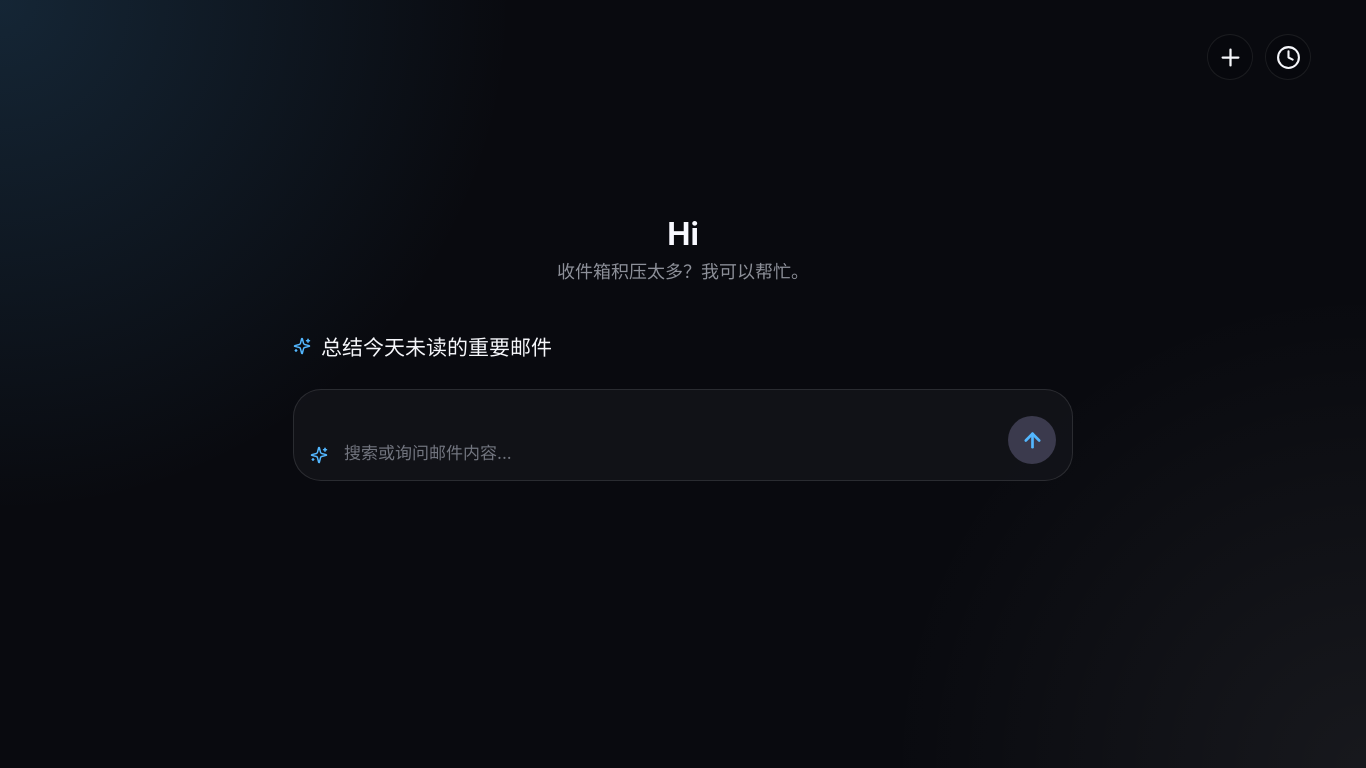
Test case: AiScreen › hides cited email excerpts until the summary is expanded
The image size is (1366, 768).
Type "coursework 邮件" into the field with placeholder "搜索或询问邮件内容..." at {"x": 670, "y": 453}, box [342,442,998,464]
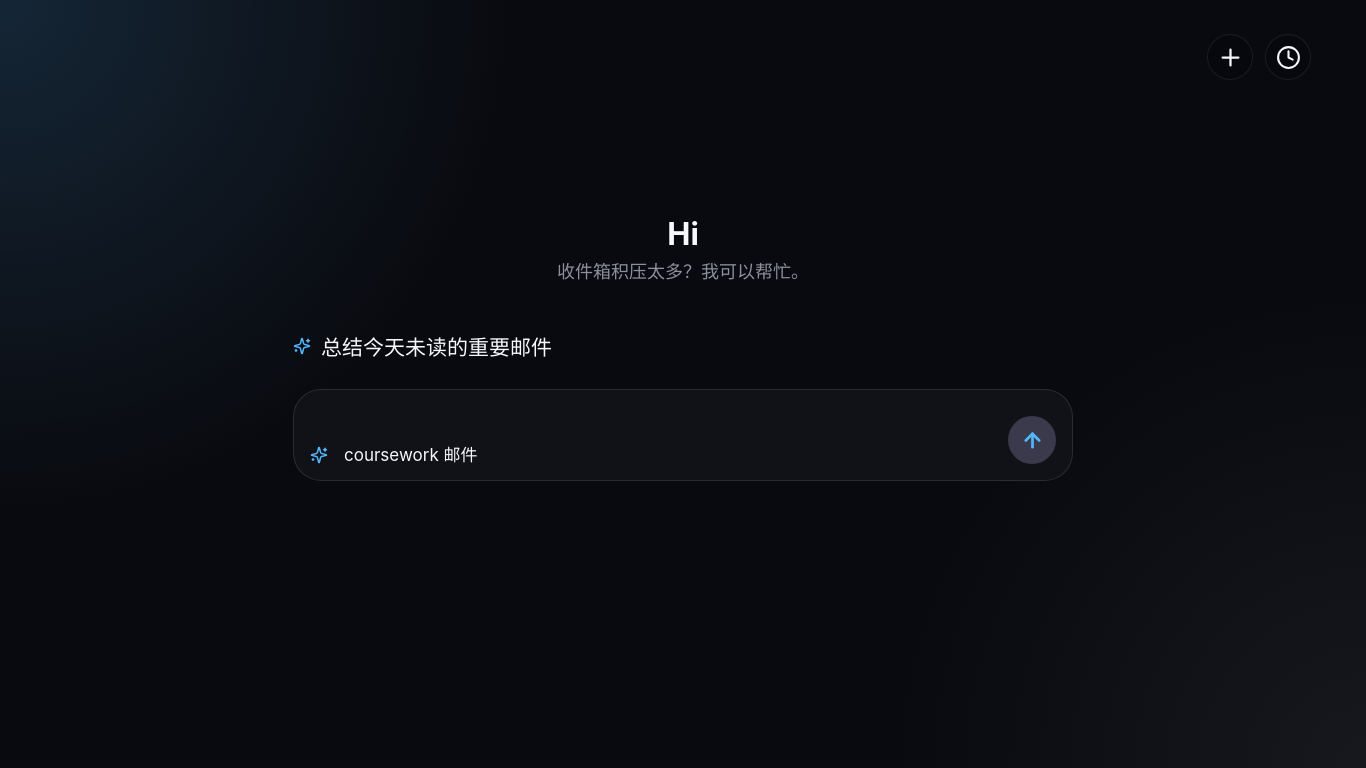
Click the button named "发送" at {"x": 1032, "y": 440}, box [1008,416,1056,464]
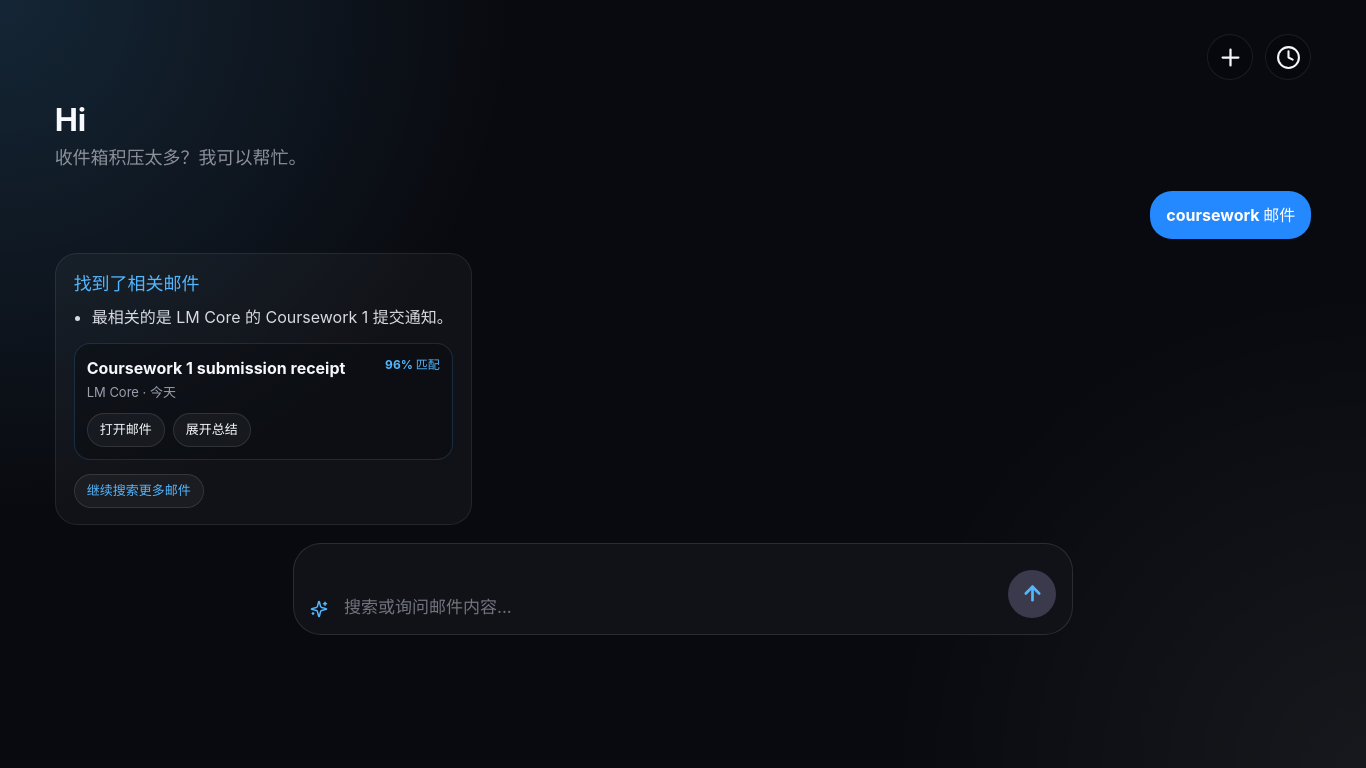
Expected: the text "Coursework 1 已提交。" is not shown
Expected: the heading "Coursework 1 submission receipt" is shown, [87,356,345,380]
Click the button "展开总结" at {"x": 212, "y": 430}, box [173,412,251,446]
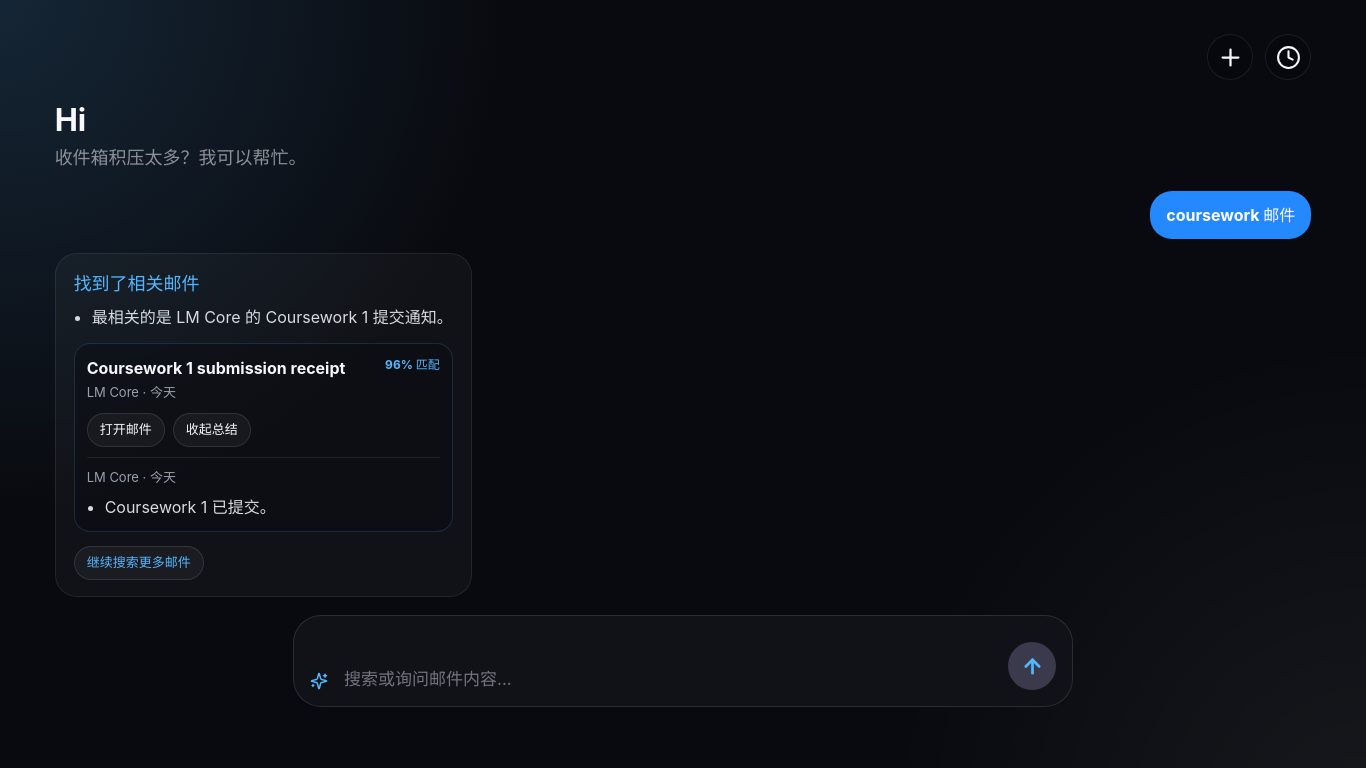
Expected: the list item "Coursework 1 已提交。" is shown, [105,497,276,517]
Expected: the button "展开总结" is gone
Expected: the button "收起总结" is shown, [173,412,251,446]
